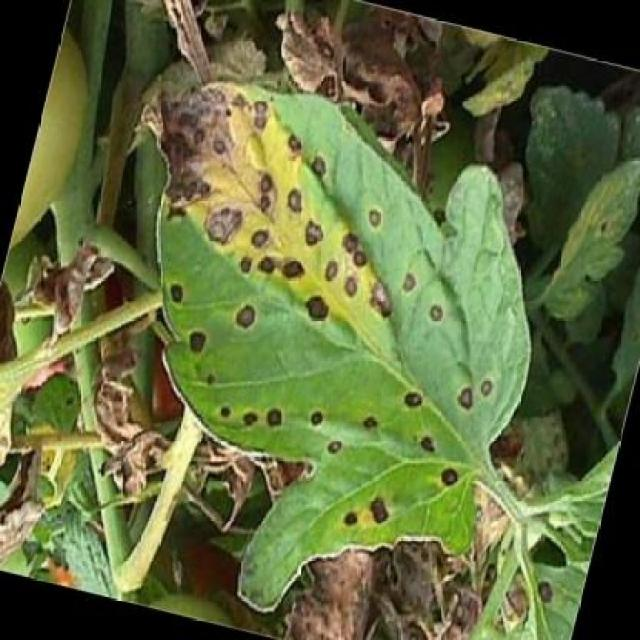Septoria leaf spot: (18, 36, 601, 640)
